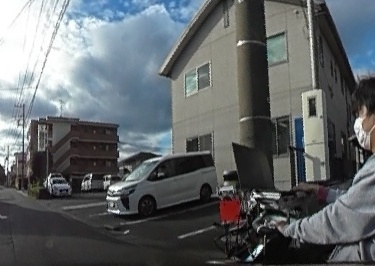person: (268, 73, 375, 266)
